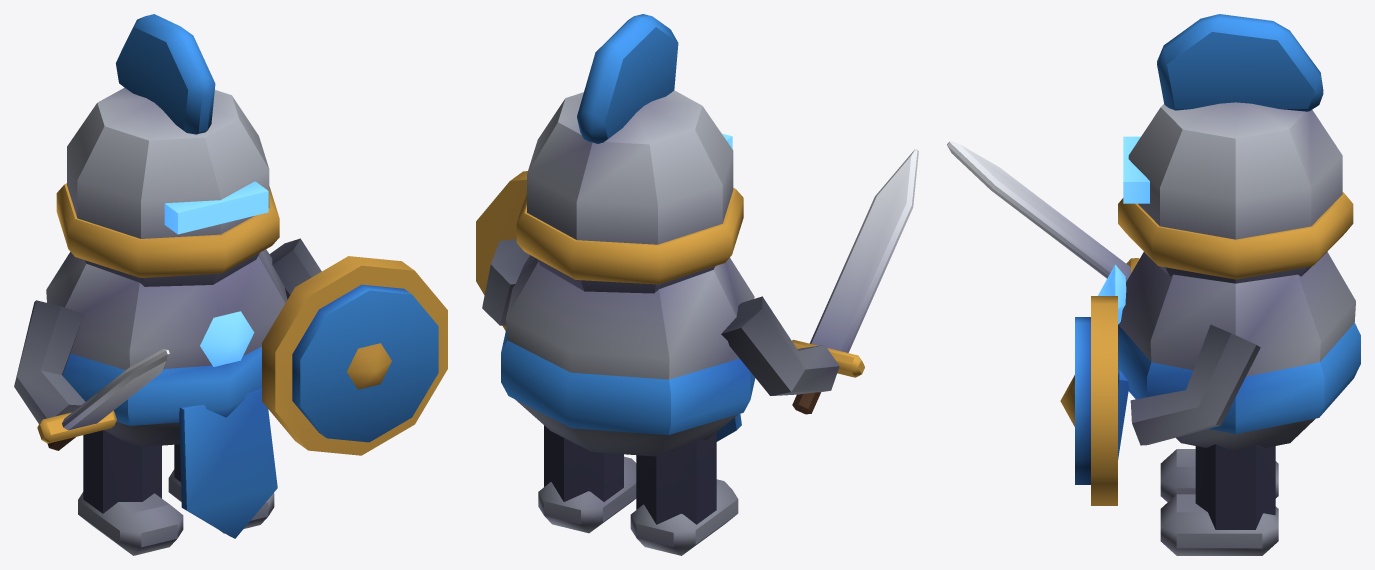
File: minion_melee.glb
3 renders of one model, left to right at view 1: azimuth 30°, elevation 25°; view 2: azimuth 150°, elevation 25°; view 3: azimuth 270°, elevation 25°, orthographic. The views are drawn at different scales.
Visible parts, largest first — view 1: head, torso, arm_l, arm_r, leg_r, leg_l; view 2: head, torso, arm_r, leg_r, leg_l, arm_l; view 3: head, torso, arm_l, leg_l, arm_r, leg_r.
Boxes of the visible parts, <box> form: head: <box>56,14,279,286</box>; torso: <box>46,249,287,538</box>; arm_l: <box>262,238,447,455</box>; arm_r: <box>14,300,169,450</box>; leg_r: <box>78,430,183,555</box>; leg_l: <box>168,444,274,533</box>; head: <box>516,14,743,293</box>; torso: <box>501,255,755,456</box>; arm_r: <box>721,149,918,414</box>; leg_r: <box>630,432,738,555</box>; leg_l: <box>538,425,636,533</box>; arm_l: <box>476,171,529,330</box>; head: <box>1118,14,1353,283</box>; torso: <box>1098,252,1360,459</box>; arm_l: <box>1060,296,1260,505</box>; leg_l: <box>1160,444,1278,555</box>; arm_r: <box>947,141,1139,281</box>; leg_r: <box>1160,449,1278,502</box>.
Bounding box in the file's own units: 0.8502 × 1.05 × 0.7731.
